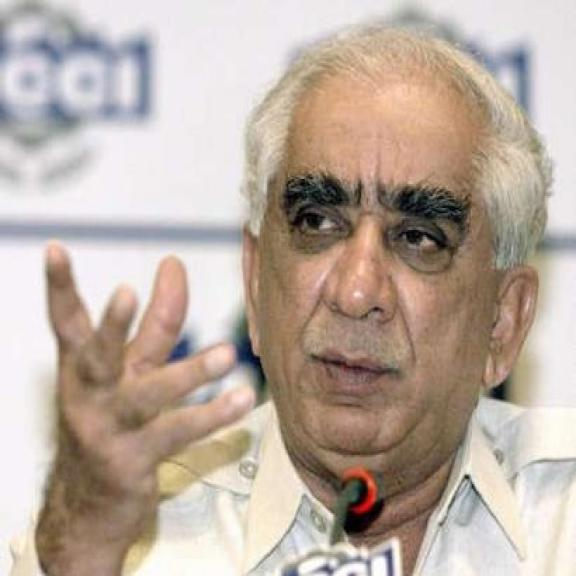face: (238, 73, 551, 468)
